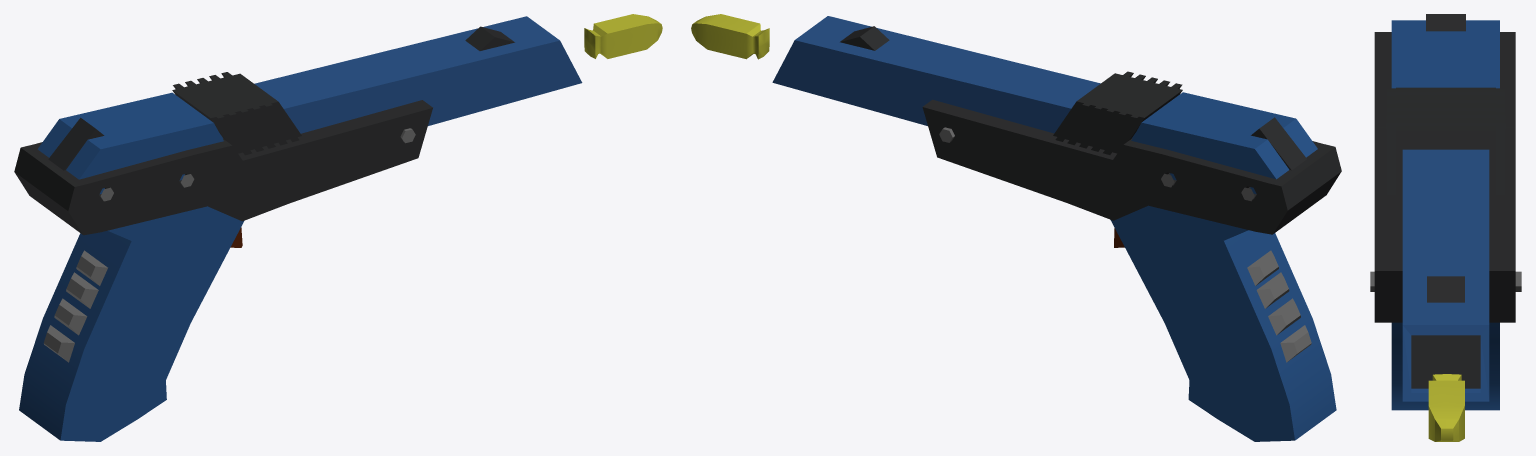
Rendered from Zapper.fbx.
3 views of the same model, side by side, from view 1: azimuth 30°, elevation 25°; view 2: azimuth 150°, elevation 25°; view 3: azimuth 270°, elevation 25° (orthographic). The views are drawn at different scales.
Parts seen in each view (by area): view 1: polySurface16, polySurface4, polySurface8, polySurface6, Bala1, polySurface3, polySurface2, pCube19, pCube20, polySurface10, polySurface1, polySurface7 (+4 smaller); view 2: polySurface16, polySurface4, polySurface8, polySurface6, Bala1, polySurface3, polySurface2, pCube19, pCube20, polySurface10, polySurface1, polySurface7 (+4 smaller); view 3: polySurface8, polySurface4, polySurface16, polySurface6, Bala1, polySurface12, polySurface2, polySurface5, polySurface1, polySurface7, polySurface10, polySurface3 (+1 smaller).
Boxes of the visible parts, x1,y1,x2,y2 form: polySurface16: (19, 92, 243, 441); polySurface4: (14, 100, 432, 235); polySurface8: (220, 16, 582, 138); polySurface6: (172, 73, 301, 153); Bala1: (584, 14, 662, 58); polySurface3: (48, 117, 104, 170); polySurface2: (465, 26, 514, 50); pCube19: (54, 298, 87, 335); pCube20: (66, 272, 98, 308); polySurface10: (173, 83, 252, 155); polySurface1: (185, 80, 263, 151); polySurface7: (197, 78, 275, 148); polySurface16: (1110, 92, 1336, 441); polySurface4: (922, 99, 1341, 234); polySurface8: (772, 16, 1135, 138); polySurface6: (1053, 73, 1182, 153); Bala1: (691, 14, 769, 59); polySurface3: (1251, 117, 1306, 170); polySurface2: (840, 26, 889, 50); pCube19: (1268, 298, 1300, 335); pCube20: (1256, 272, 1289, 308); polySurface10: (1103, 83, 1182, 154); polySurface1: (1091, 80, 1169, 151); polySurface7: (1079, 77, 1157, 148); polySurface8: (1402, 149, 1489, 401); polySurface4: (1374, 32, 1515, 322); polySurface16: (1391, 20, 1499, 410); polySurface6: (1396, 87, 1495, 198); Bala1: (1428, 374, 1464, 441); polySurface12: (1386, 119, 1505, 194); polySurface2: (1427, 276, 1464, 302); polySurface5: (1386, 111, 1505, 119); polySurface1: (1386, 96, 1505, 103); polySurface7: (1386, 104, 1505, 111); polySurface10: (1386, 88, 1505, 95); polySurface3: (1426, 14, 1465, 31).
Bounding box in the file's own units: 75.49 × 35.01 × 12.22.
